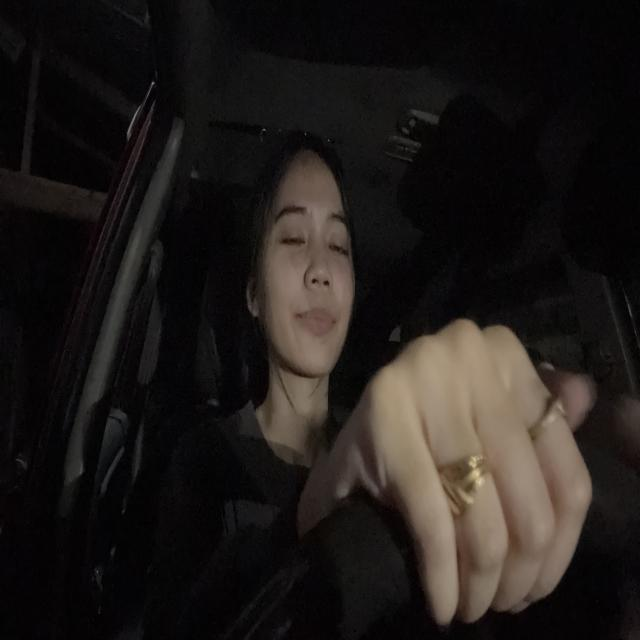close: (270, 203, 312, 258), (323, 207, 355, 265)
